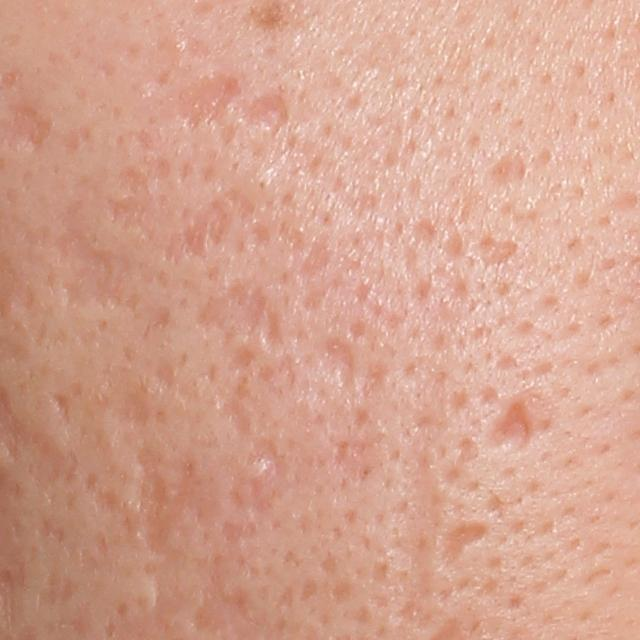atrophic_scar: (104, 162, 257, 264), (81, 445, 180, 569), (53, 201, 135, 316), (194, 275, 269, 343), (246, 435, 296, 513), (178, 74, 247, 127), (24, 431, 79, 489), (214, 375, 255, 444), (483, 396, 532, 451), (324, 335, 363, 401), (441, 518, 492, 568), (237, 91, 288, 138), (103, 384, 151, 432), (482, 143, 530, 188), (294, 231, 338, 280), (475, 234, 522, 268), (260, 307, 288, 353), (362, 359, 394, 396), (222, 345, 263, 369), (45, 388, 72, 424)
